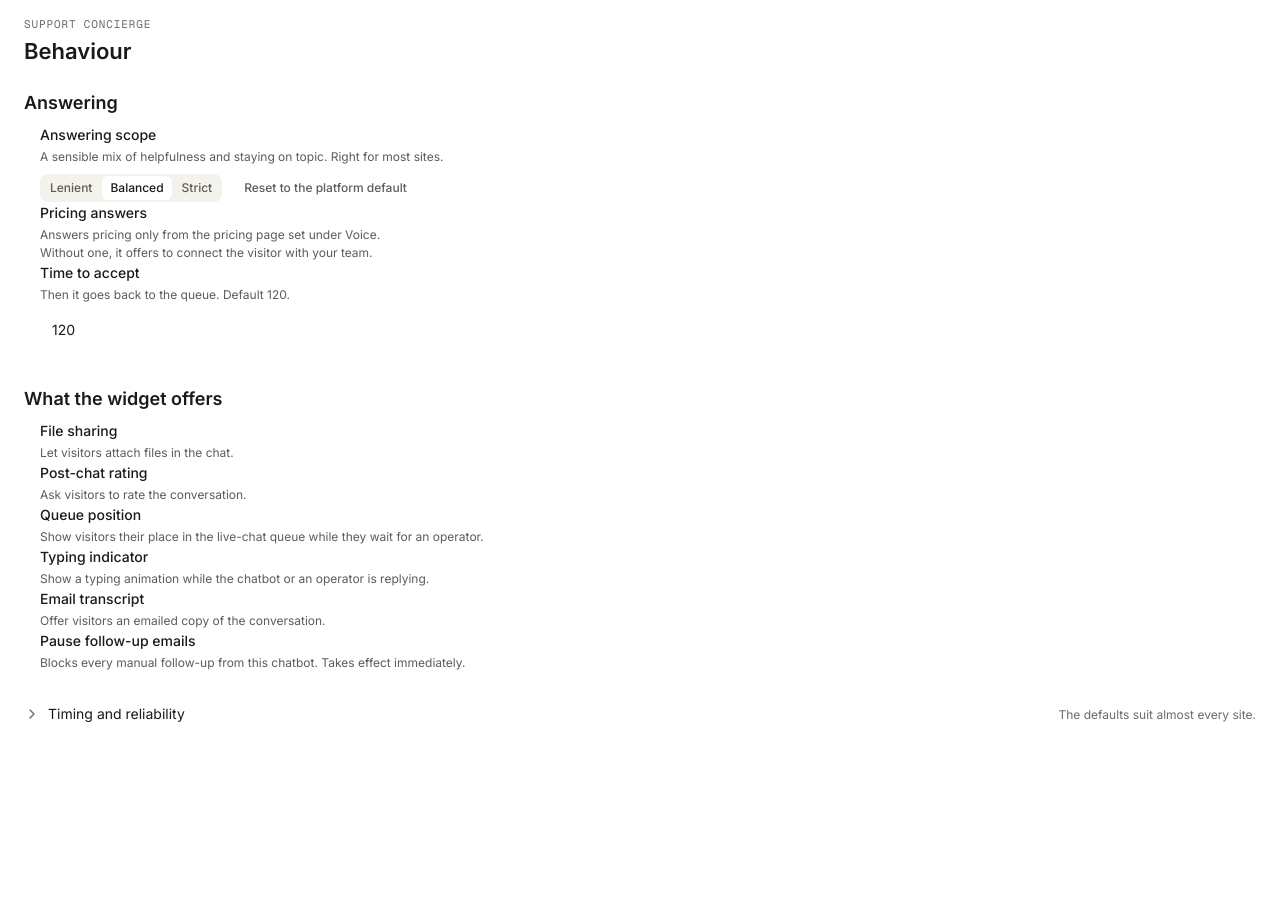
Test: the operator response window › refuses a value the API would reject, naming the range
The image size is (1280, 900).
Expected: the heading "Answering" is shown, [24, 90, 118, 116]
Replace the text in the number field named "Time to accept (seconds)" with "2": [120, 329] box [40, 312, 200, 346]
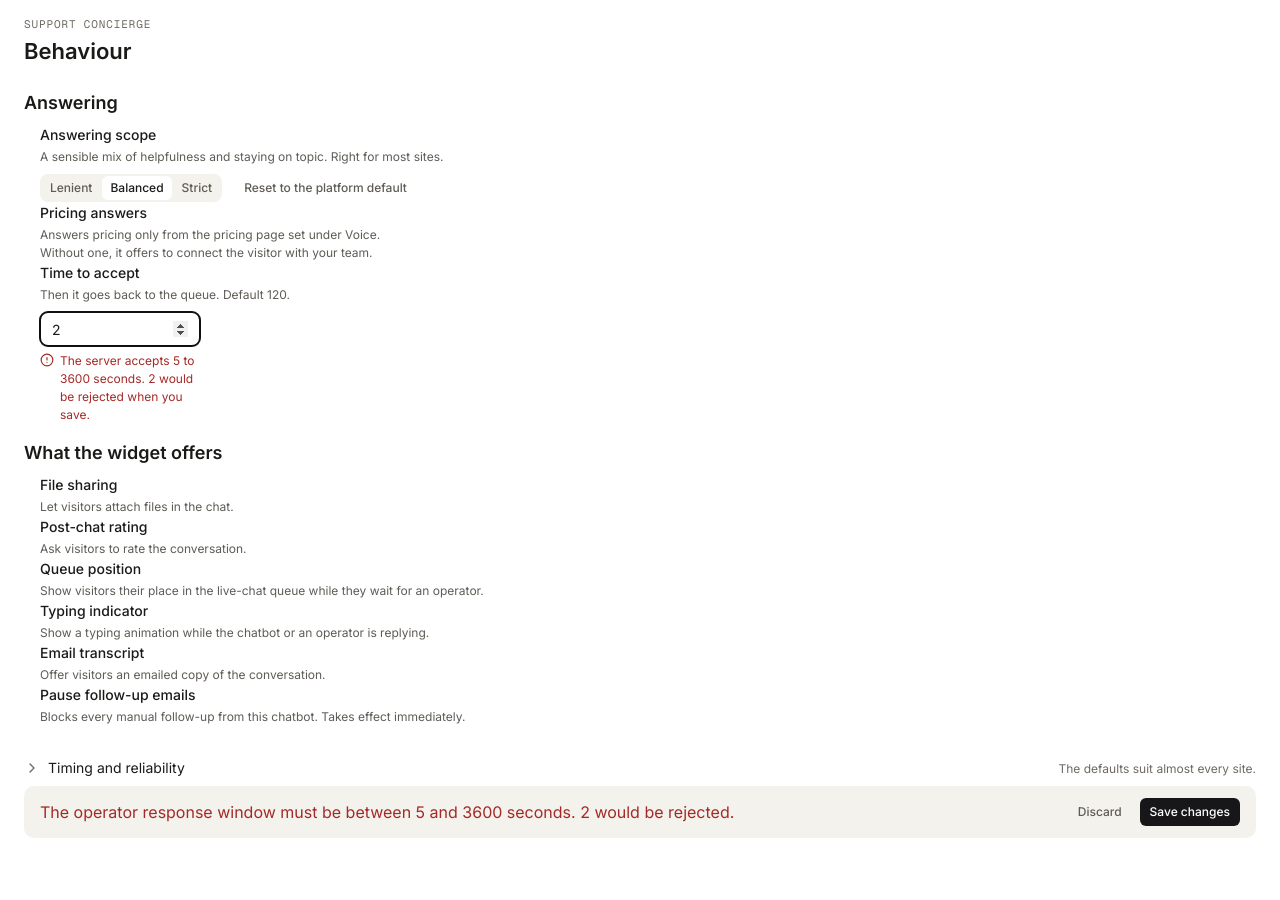
Expected: the button "Save changes" is disabled, [1140, 798, 1240, 826]
Expected: the text "5 to 3600 seconds. 2 would be rejected" is shown, [60, 353, 194, 422]
